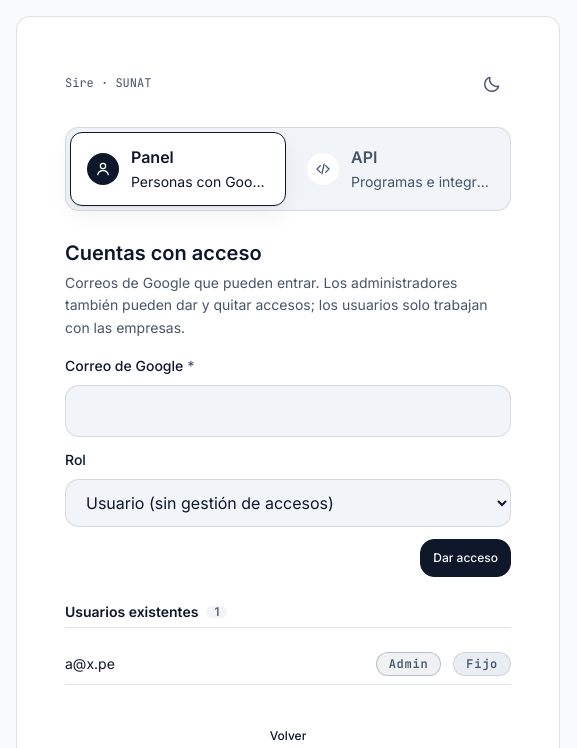
it: Administrar cuentas › al elegir «API» cambia la vista entera
Click the tab "API Programas e integraciones". click: (398,169)
box: [290,132,506,206]
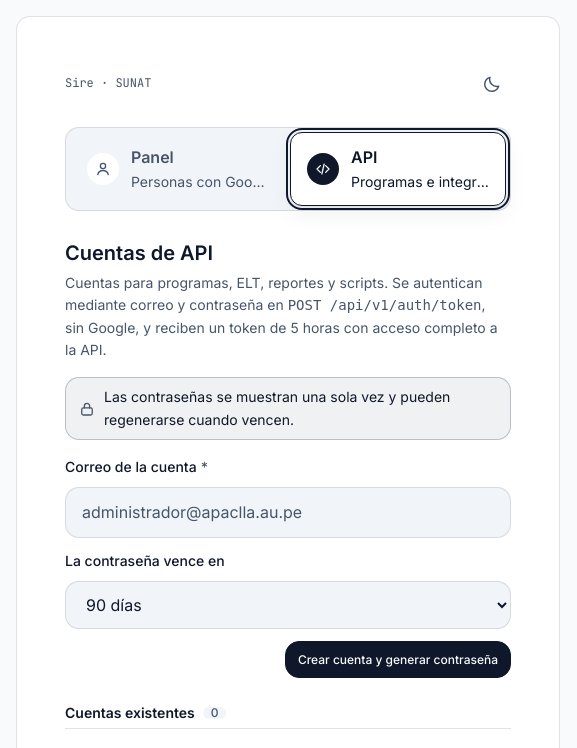
Expected: the heading "Cuentas de API" is shown, [65,241,213,265]
Expected: the text "se muestran una sola vez" is shown, [104,388,450,428]
Expected: the heading "Cuentas con acceso" is gone
